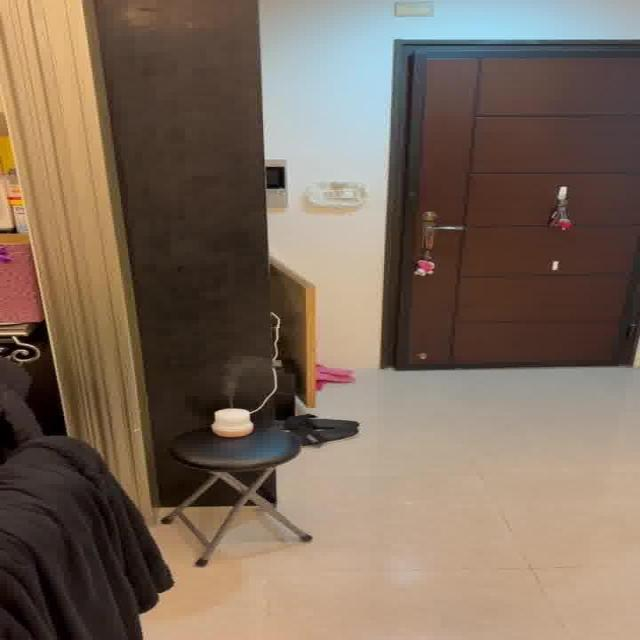fire: (212, 348, 265, 396)
